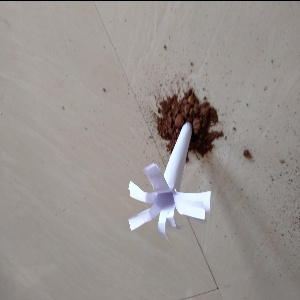weed: (121, 108, 214, 235)
